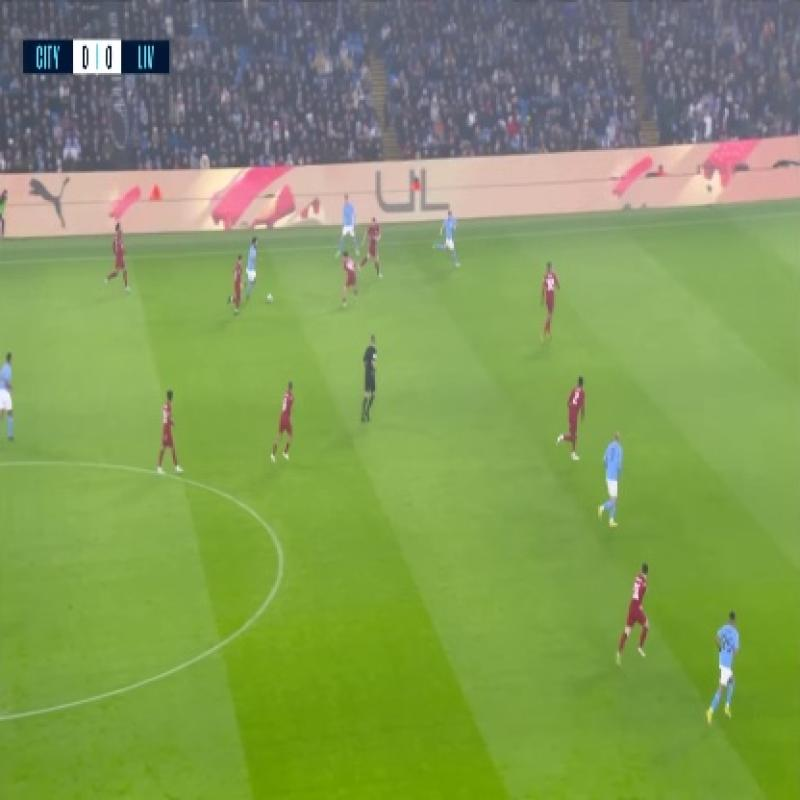c: (254, 531, 308, 578)
